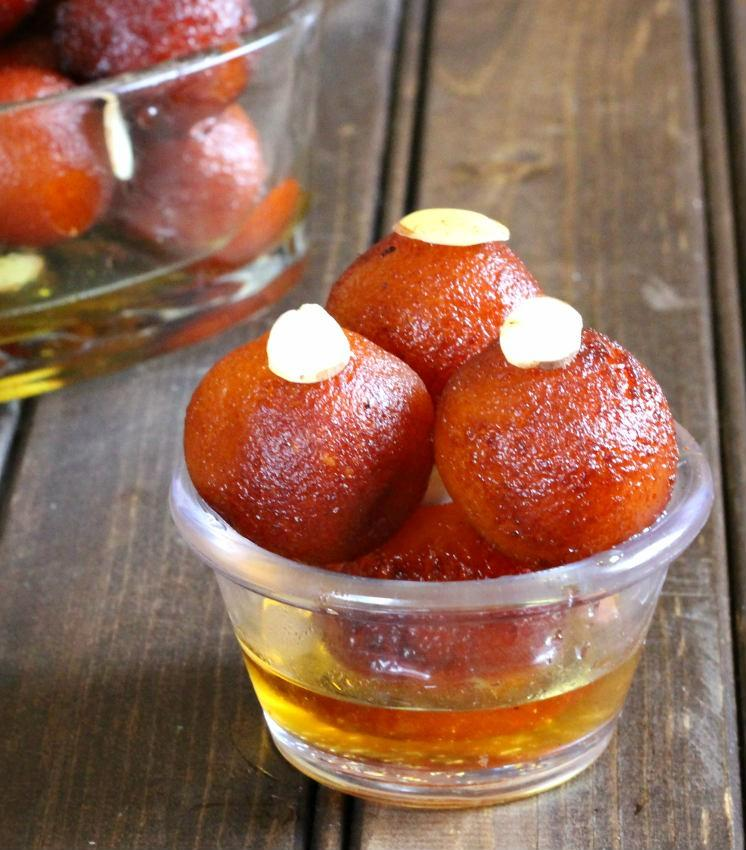GulabJamun: (182, 301, 436, 567), (429, 296, 681, 564), (312, 507, 566, 688), (329, 207, 546, 374)
